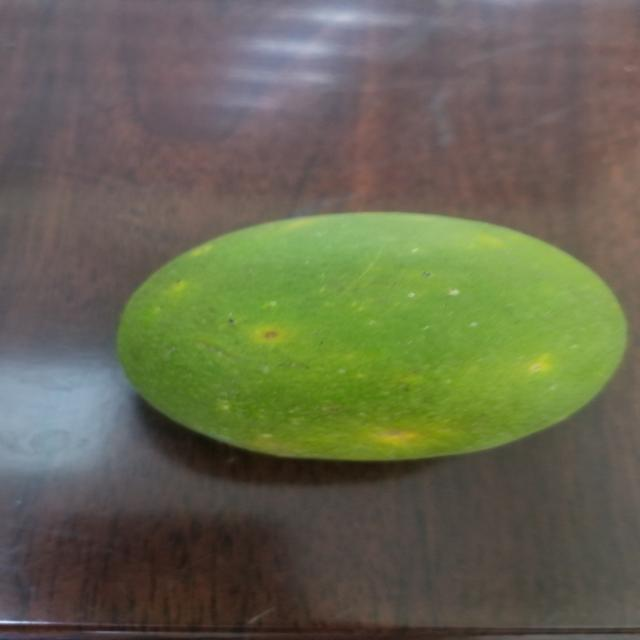Ripe orange: (111, 201, 617, 470)
